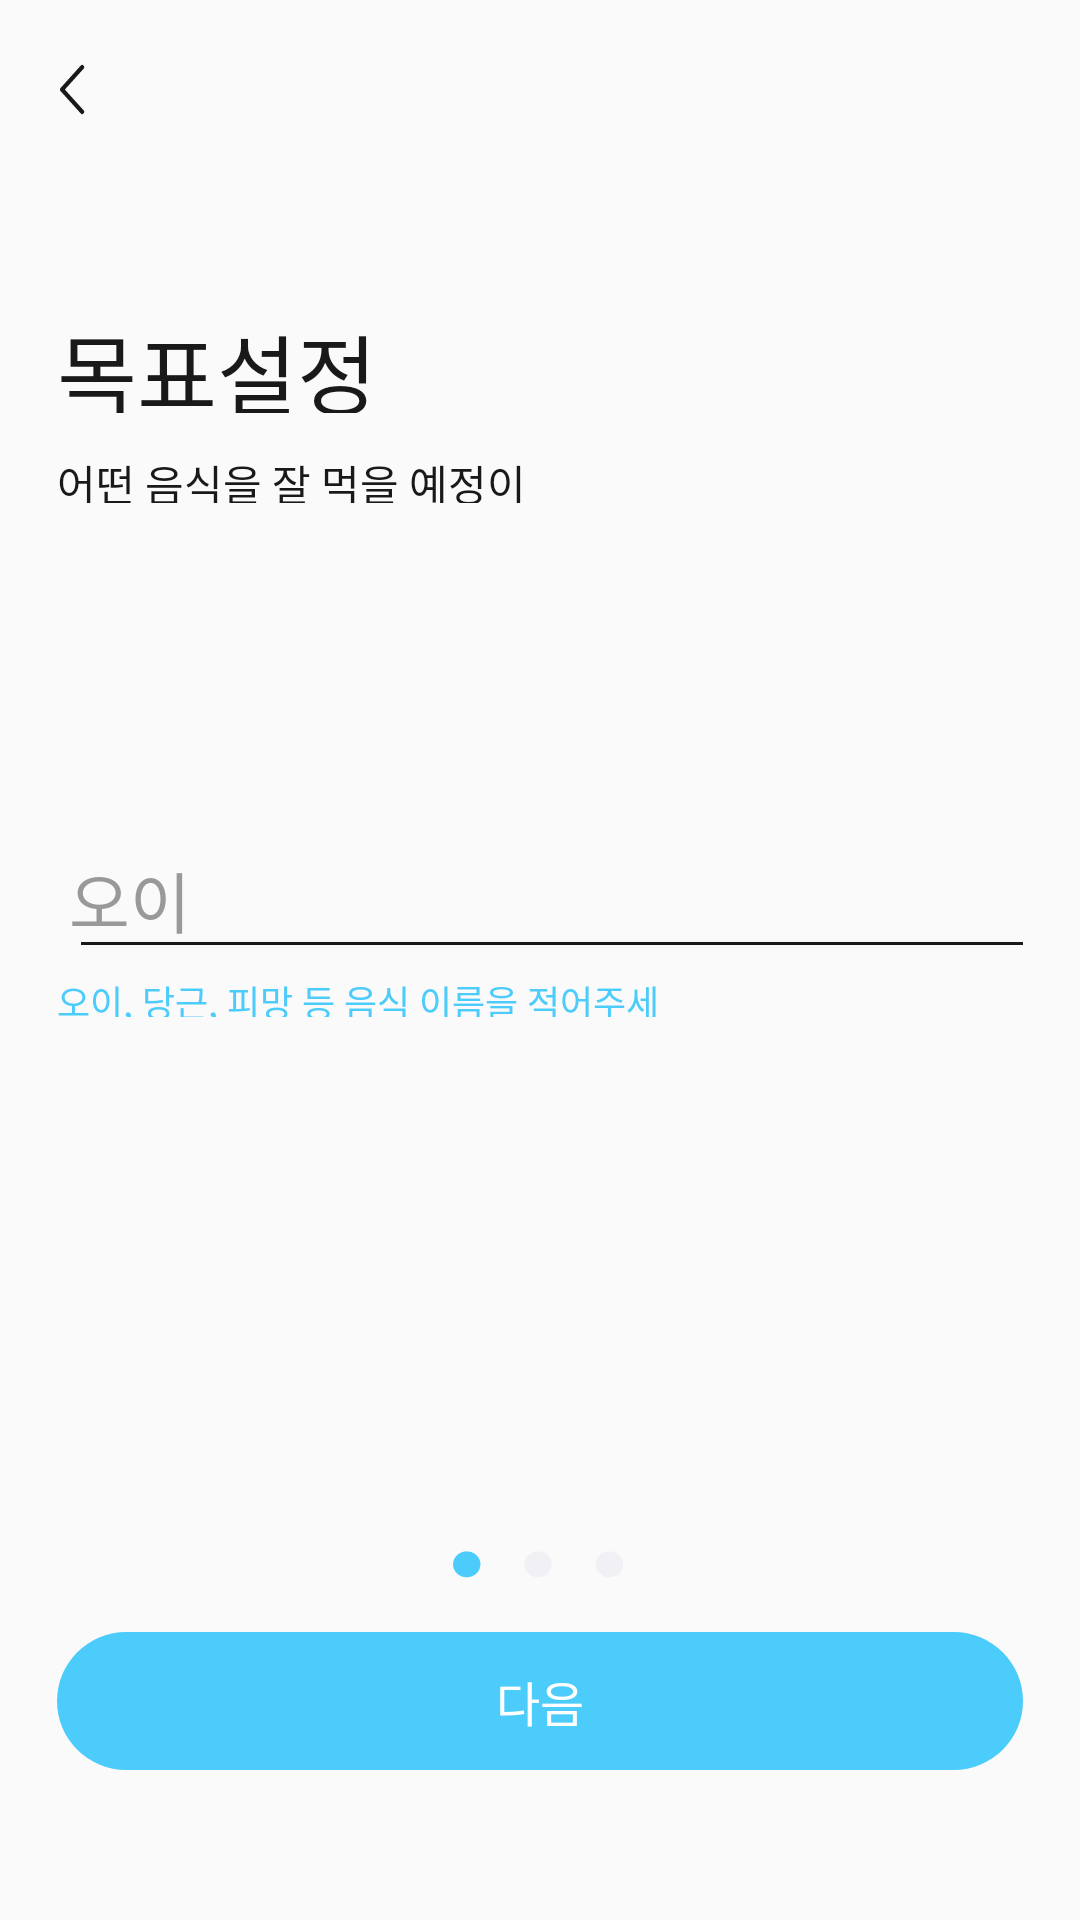

Icon bounding boxes for this 1080×1920 phone screenshot, format (x1, y1, x2, y2):
back: (60, 64, 85, 115)
